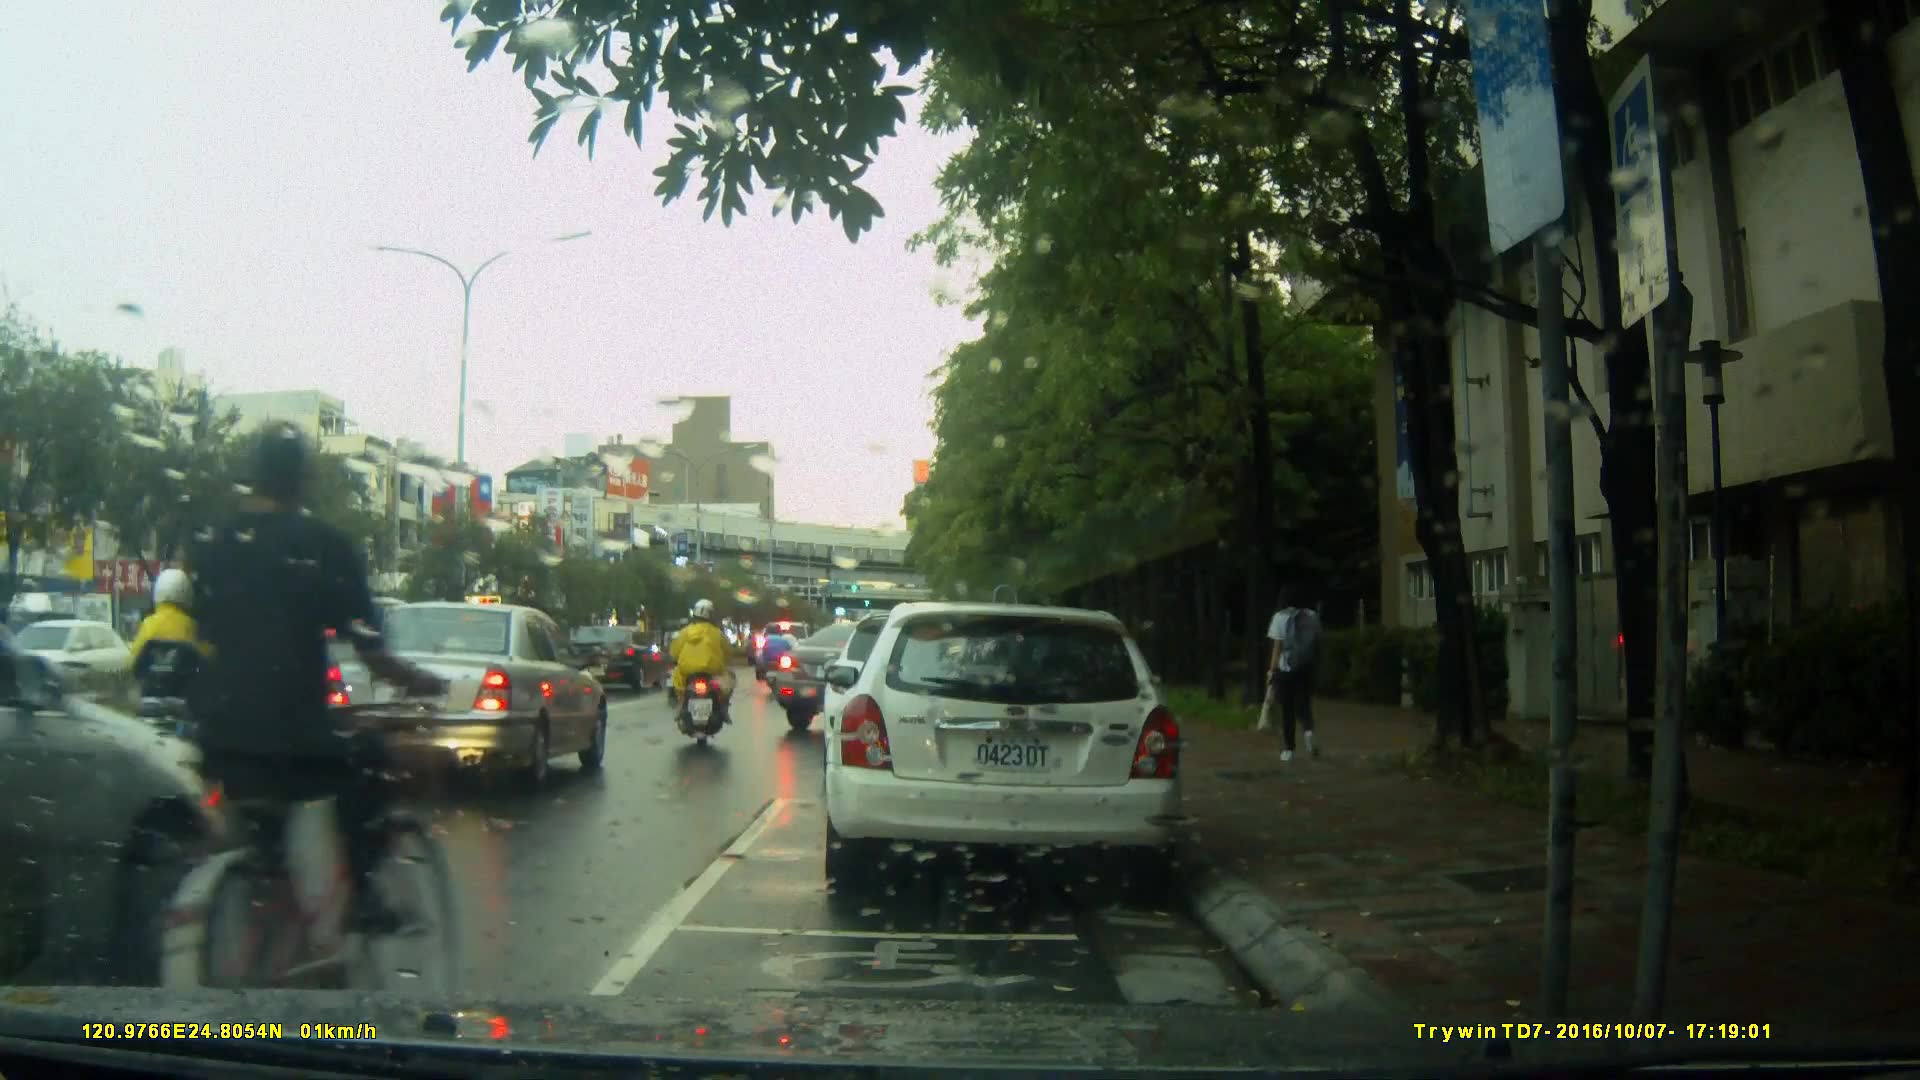pedestrian: (1267, 572, 1333, 768)
rider: (128, 412, 458, 1047), (129, 575, 252, 833), (671, 593, 735, 756), (653, 612, 692, 706), (766, 620, 792, 703)
vehicle: (1, 555, 290, 988), (820, 602, 1188, 898), (322, 600, 617, 788), (252, 593, 465, 735), (765, 621, 990, 733), (565, 624, 670, 694)
